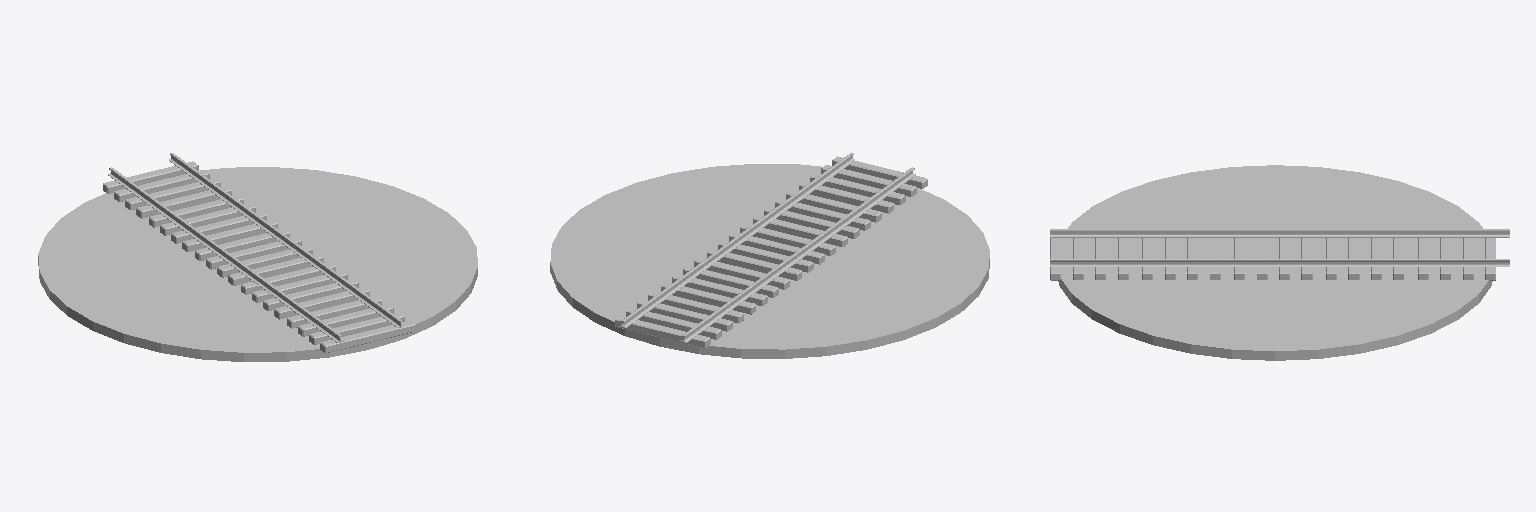
The model's file is railturntable.obj.
The picture shows the model from 3 angles: view 1: azimuth 30°, elevation 25°; view 2: azimuth 150°, elevation 25°; view 3: azimuth 270°, elevation 25°; orthographic projection.
Visible parts, largest first — view 1: Cylinder, Track_Cube.001; view 2: Cylinder, Track_Cube.001; view 3: Cylinder, Track_Cube.001.
Boxes of the visible parts, x1=… form: Cylinder: x1=38, y1=167, x2=477, y2=361; Track_Cube.001: x1=103, y1=153, x2=415, y2=352; Cylinder: x1=550, y1=164, x2=989, y2=358; Track_Cube.001: x1=615, y1=153, x2=927, y2=348; Cylinder: x1=1058, y1=165, x2=1492, y2=360; Track_Cube.001: x1=1050, y1=229, x2=1509, y2=280.
Size of the model in its own units: 71.19 by 4.2 by 74.2.